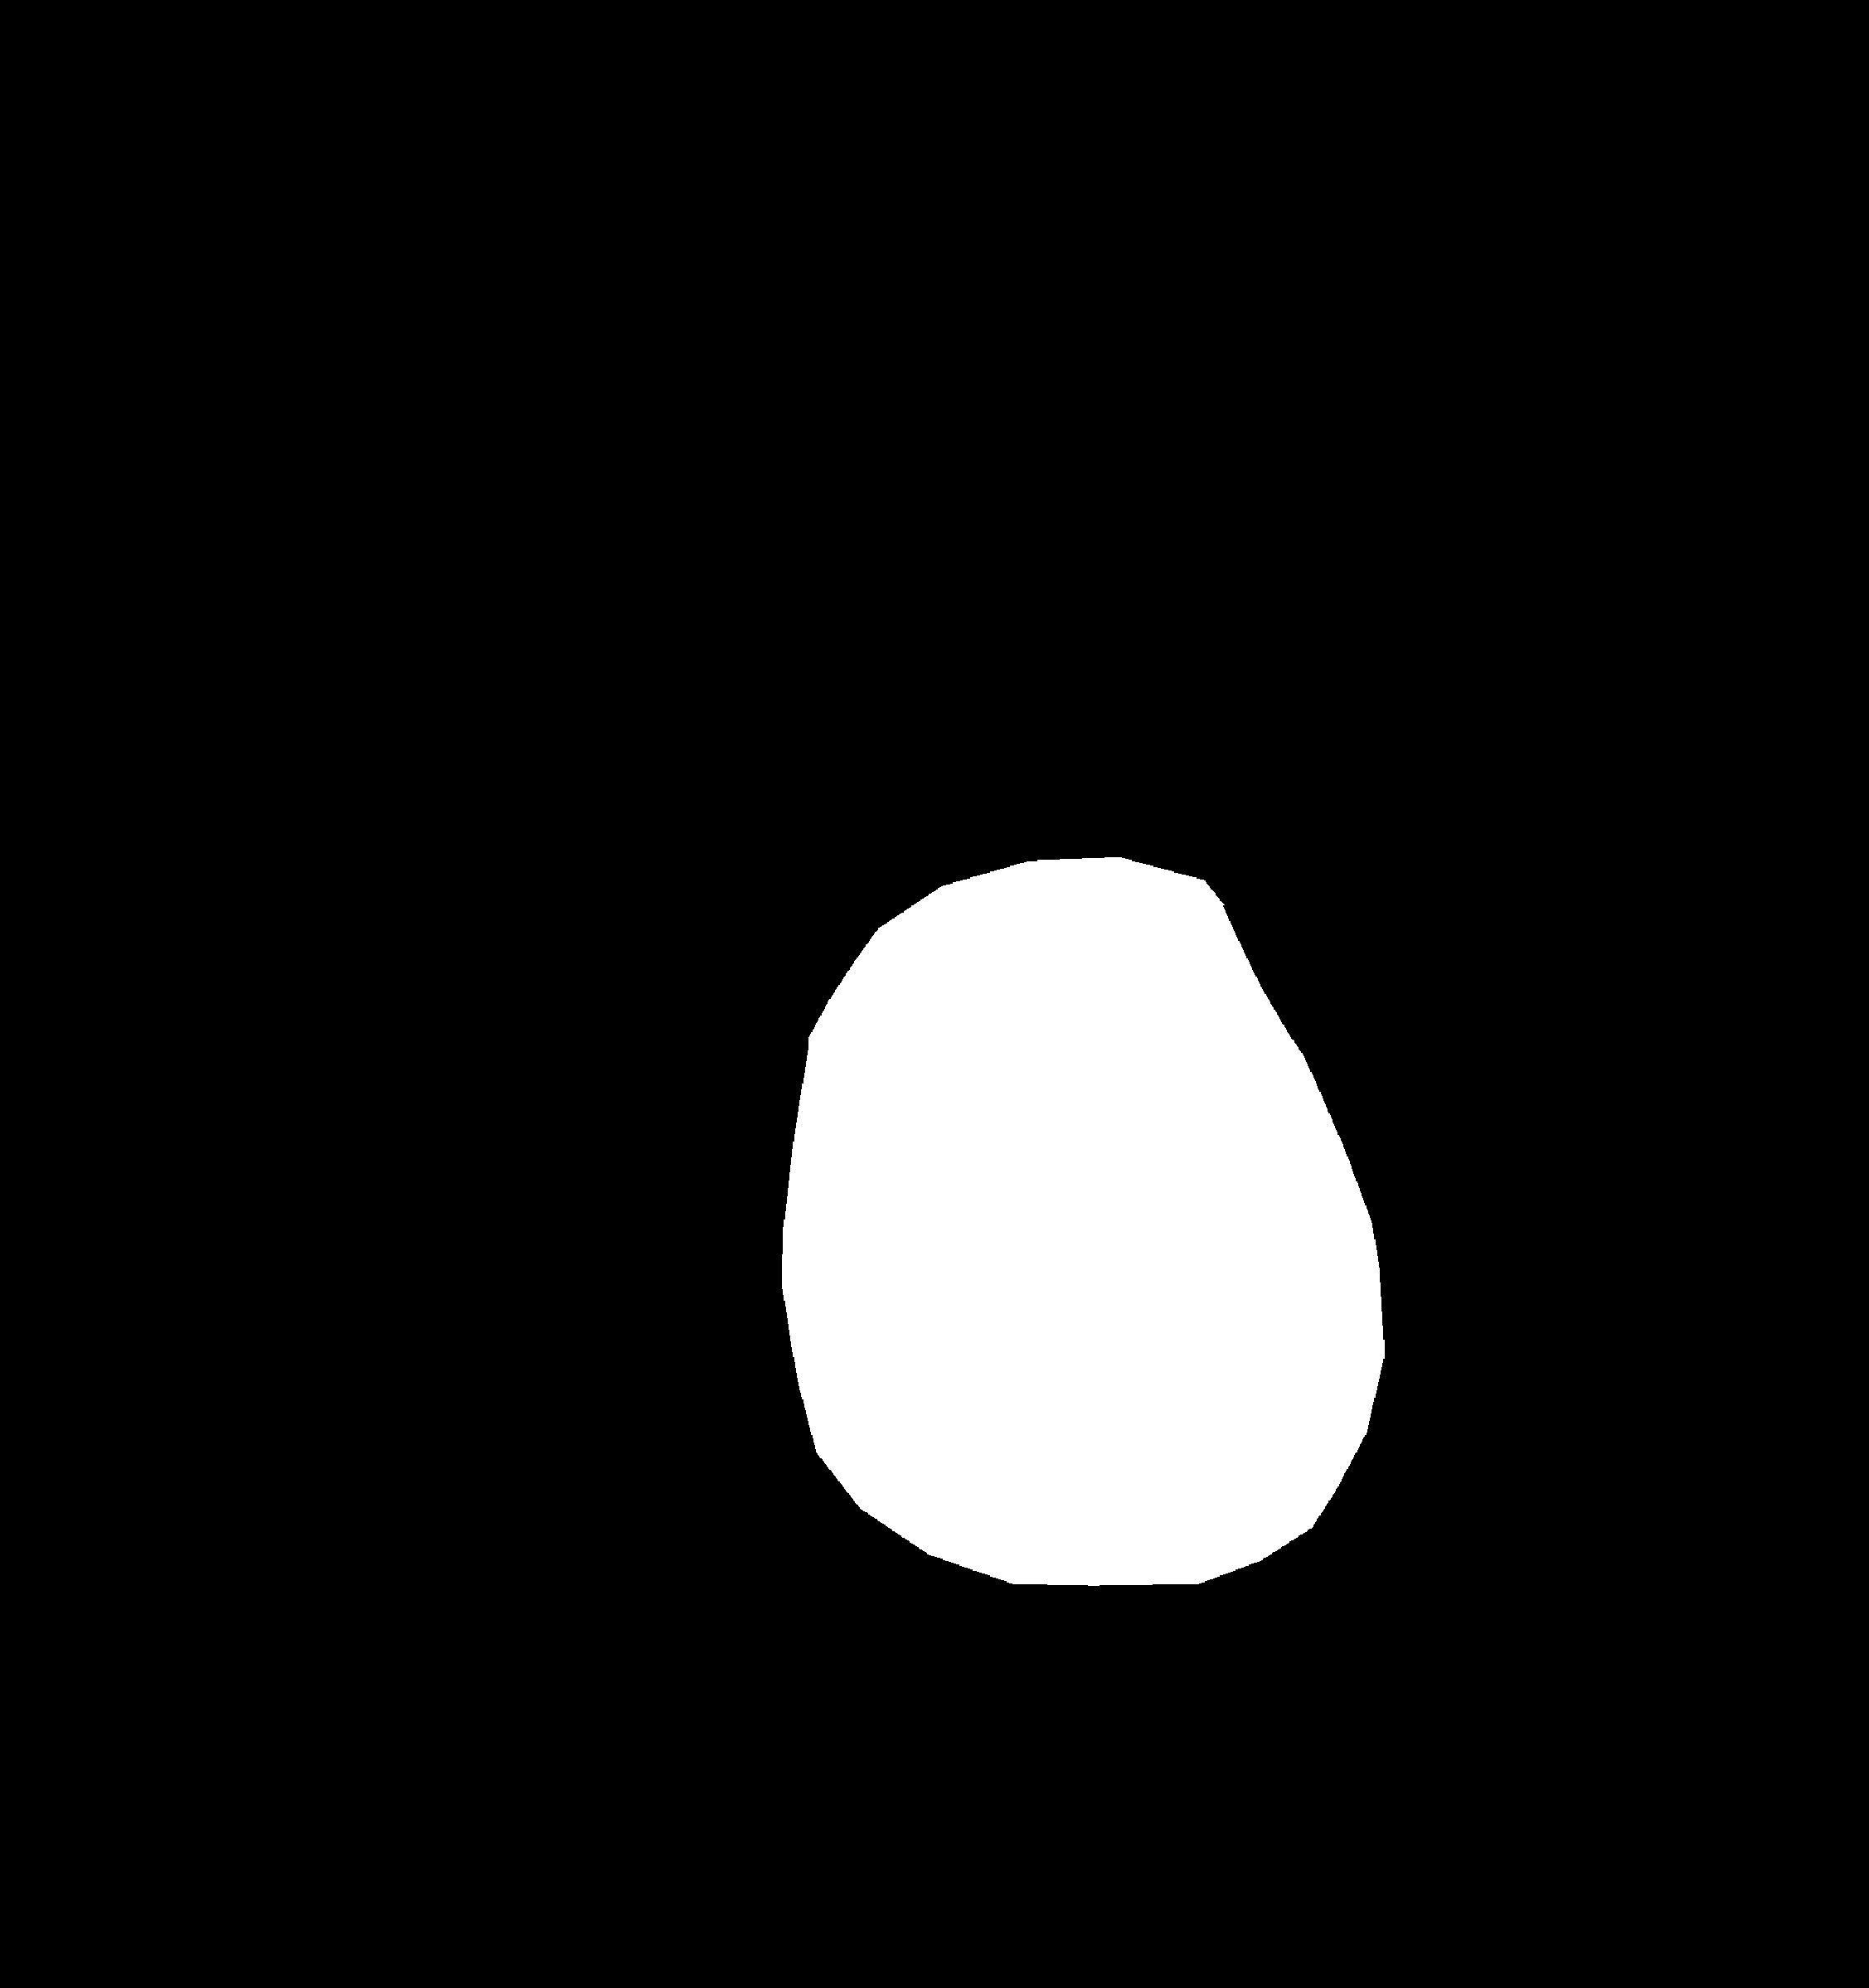heart: (782, 978, 1375, 1554)
left_lung: (253, 137, 950, 1749)
right_lung: (1084, 156, 1669, 1751)
